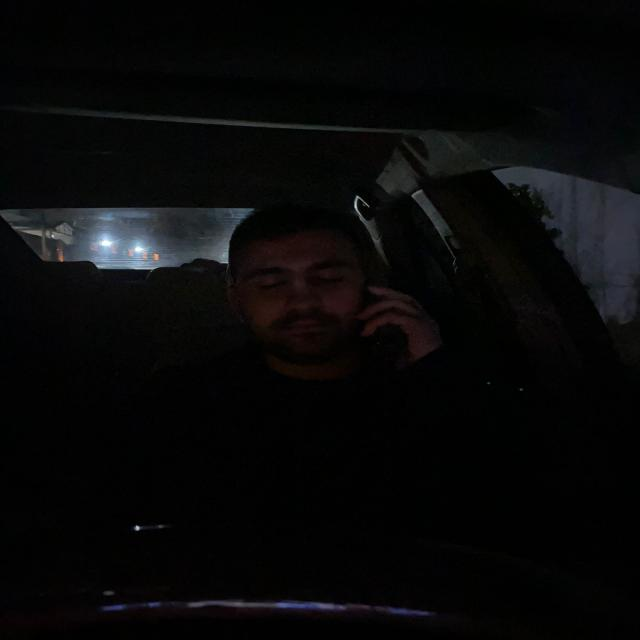person: (232, 210, 360, 358), (366, 280, 411, 369)
